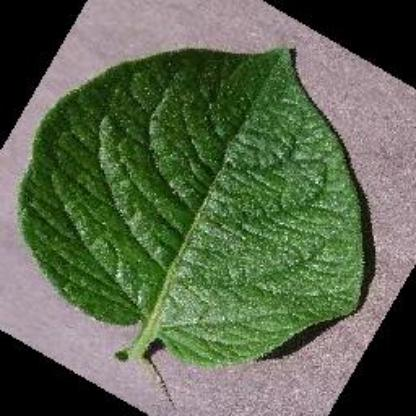Healthy-plant: (15, 38, 379, 367)
